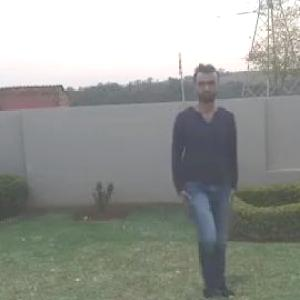follow: (169, 57, 240, 296)
